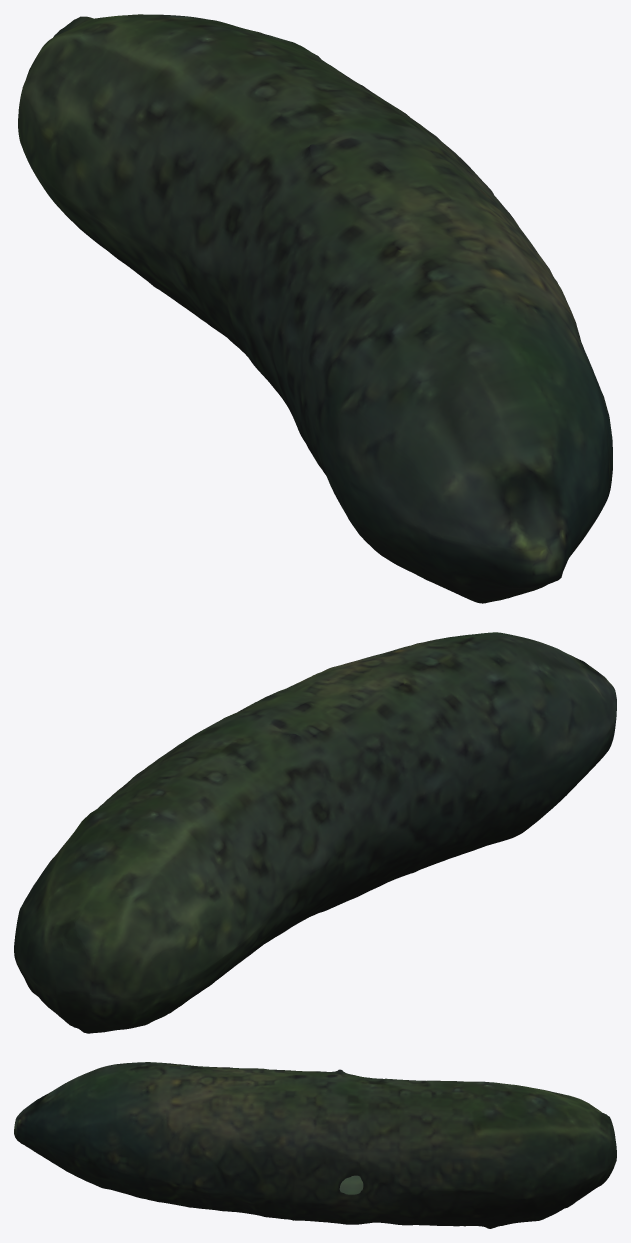
File: obj09_ours.glb
The picture shows the model from 3 angles, top to bottom: view 1: azimuth 30°, elevation 25°; view 2: azimuth 150°, elevation 25°; view 3: azimuth 270°, elevation 25°; orthographic projection. The views are drawn at different scales.
Visible parts, largest first — view 1: n1; view 2: n1; view 3: n1.
Part boxes in pixels (x1,y1,x2,y2): n1: (18,14,612,603); n1: (14,632,616,1033); n1: (14,1062,616,1228).
Size of the model in its own units: 0.319 by 0.2274 by 0.9002.
